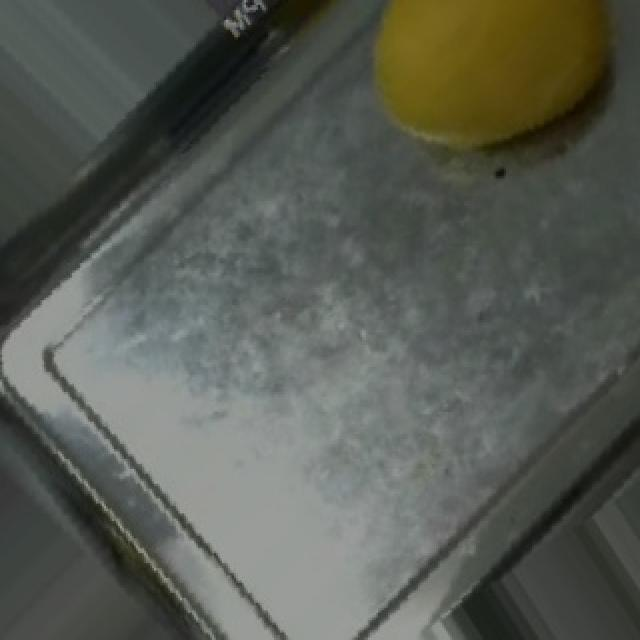fruit: (316, 0, 640, 208)
